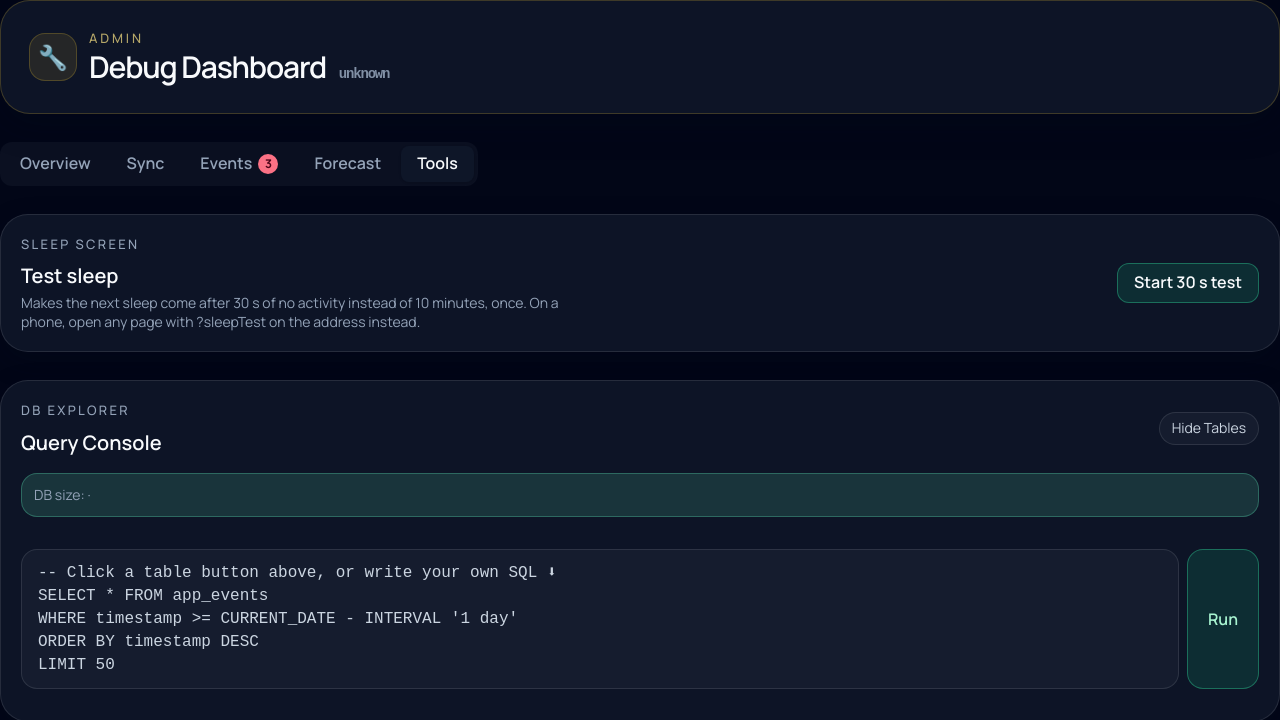
Test case: Debug sub-tabs › opens the tab named in the address, and flags errors on Events
The width and height of the screenshot is (1280, 720).
Expected: the heading "Test sleep" is shown, x1=21 y1=262 x2=118 y2=289
Expected: the heading "Query Console" is shown, x1=21 y1=429 x2=162 y2=457
Click the tab "Events 3" at (239, 164), box x1=184 y1=146 x2=294 y2=182
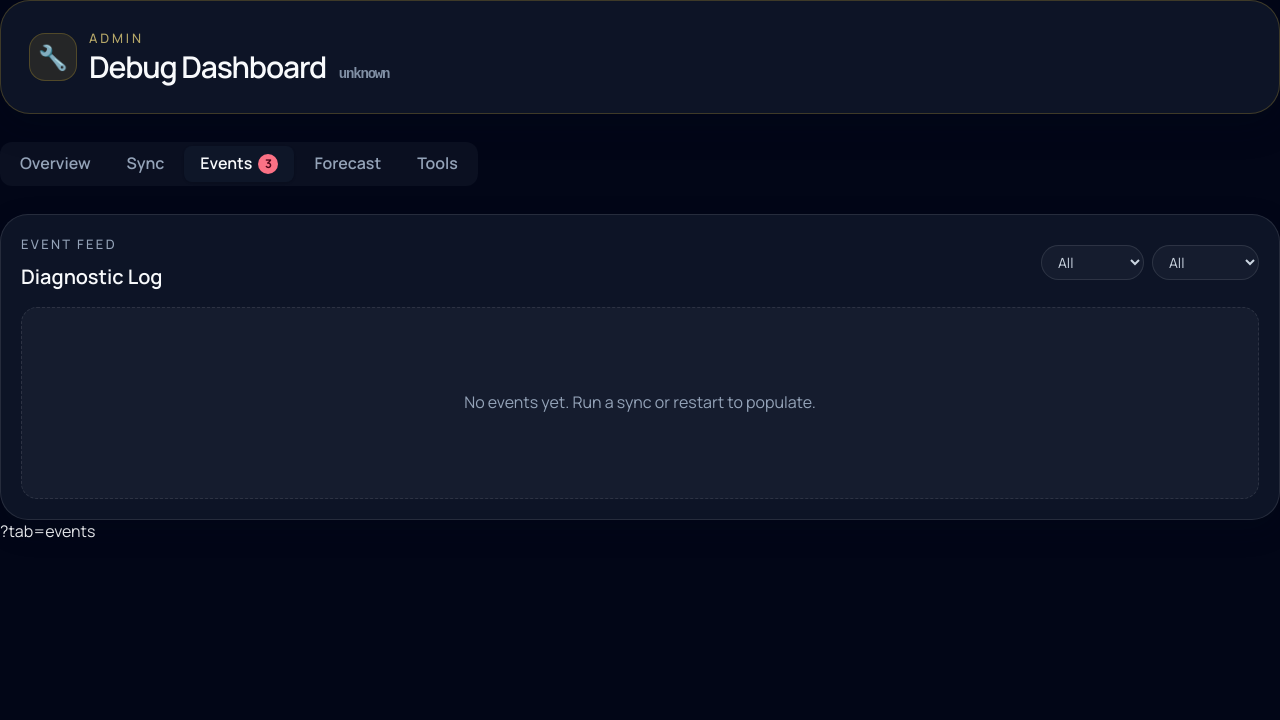
Expected: the heading "Diagnostic Log" is shown, x1=21 y1=262 x2=162 y2=290
